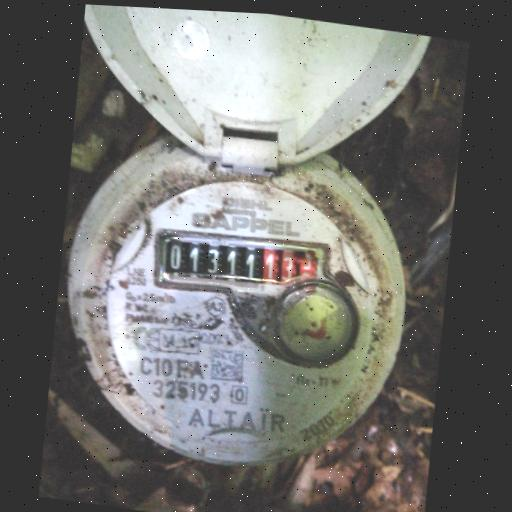0: (163, 239, 188, 278)
1: (222, 244, 244, 283), (260, 247, 281, 286), (184, 241, 205, 279), (241, 246, 262, 284)
3: (277, 248, 300, 288), (203, 242, 225, 281)
5: (298, 248, 318, 284)
border_water_meter_number: (150, 216, 335, 311)
